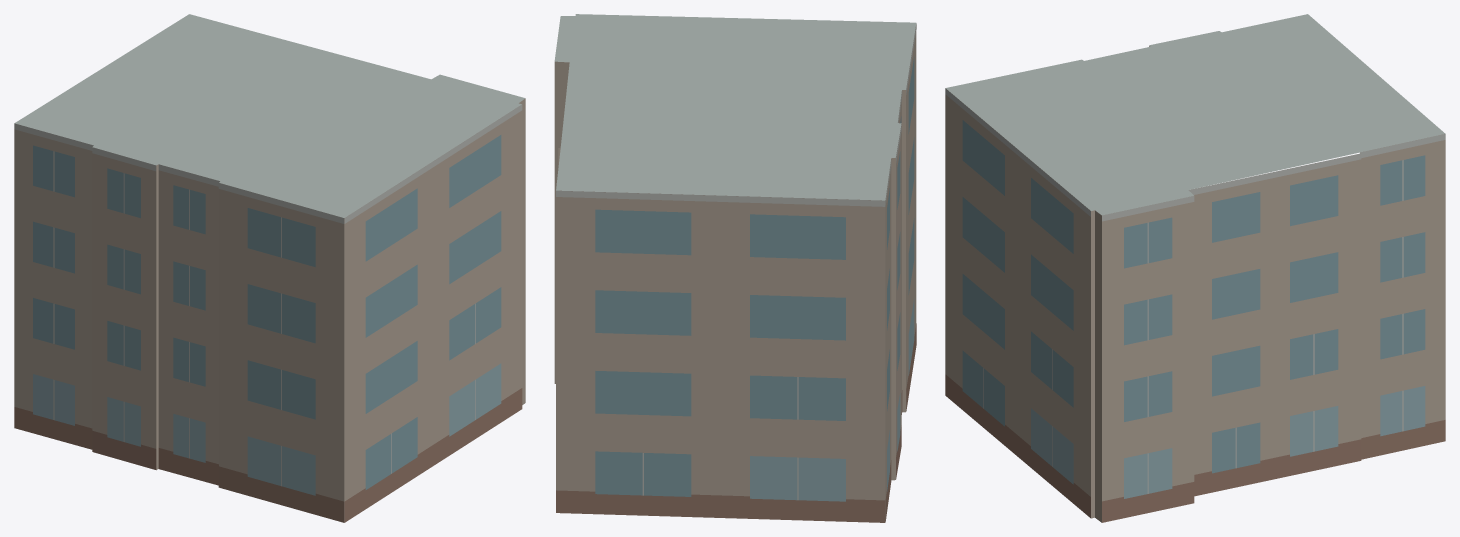
The model's file is survey-upis-32828251.glb.
3 renders of one model, left to right at view 1: azimuth 30°, elevation 25°; view 2: azimuth 150°, elevation 25°; view 3: azimuth 270°, elevation 25°, orthographic. The views are drawn at different scales.
Parts seen in each view (by area): view 1: survey-upis-32828251.tmp; view 2: survey-upis-32828251.tmp; view 3: survey-upis-32828251.tmp.
Boxes of the visible parts, <box> form: survey-upis-32828251.tmp: <box>14,14,525,522</box>; survey-upis-32828251.tmp: <box>554,14,916,522</box>; survey-upis-32828251.tmp: <box>945,14,1445,522</box>.
Size of the model in its own units: 17.44 by 12.4 by 18.3.
